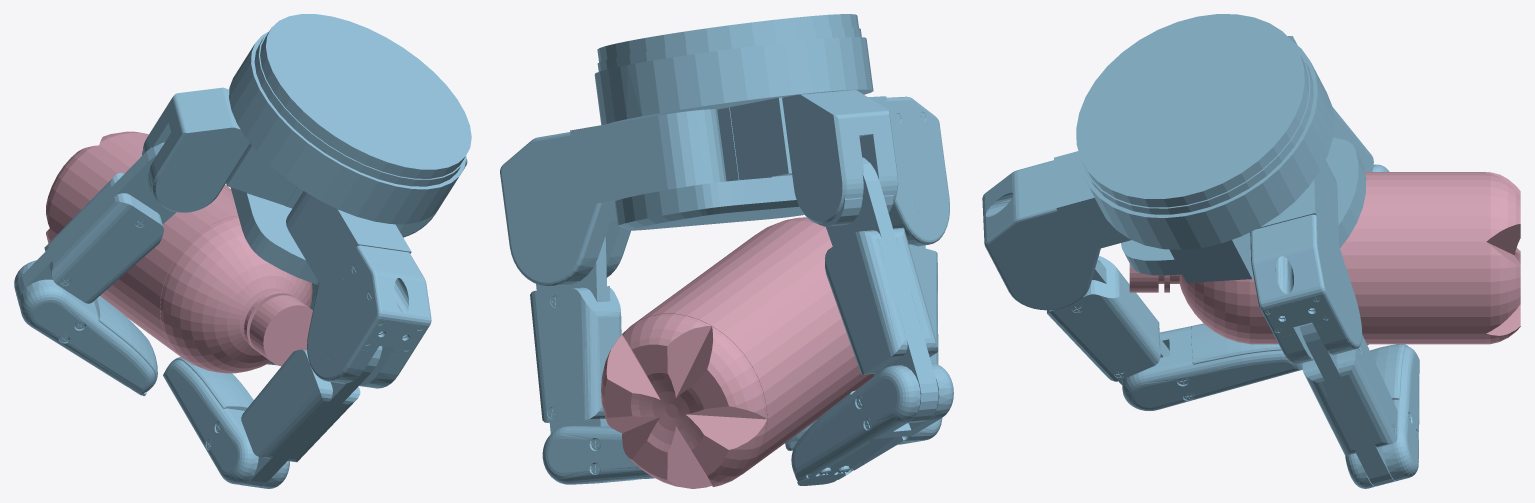
3 renders of one model, left to right at view 1: azimuth 30°, elevation 25°; view 2: azimuth 150°, elevation 25°; view 3: azimuth 270°, elevation 25°, orthographic. The views are drawn at different scales.
Parts seen in each view (by area): view 1: world; view 2: world; view 3: world.
Part boxes in pixels (x1,y1,x2,y2): world: (14,14,471,488); world: (500,14,953,488); world: (982,14,1520,488).
Bounding box in the file's own units: 0.1732 × 0.1616 × 0.188.
